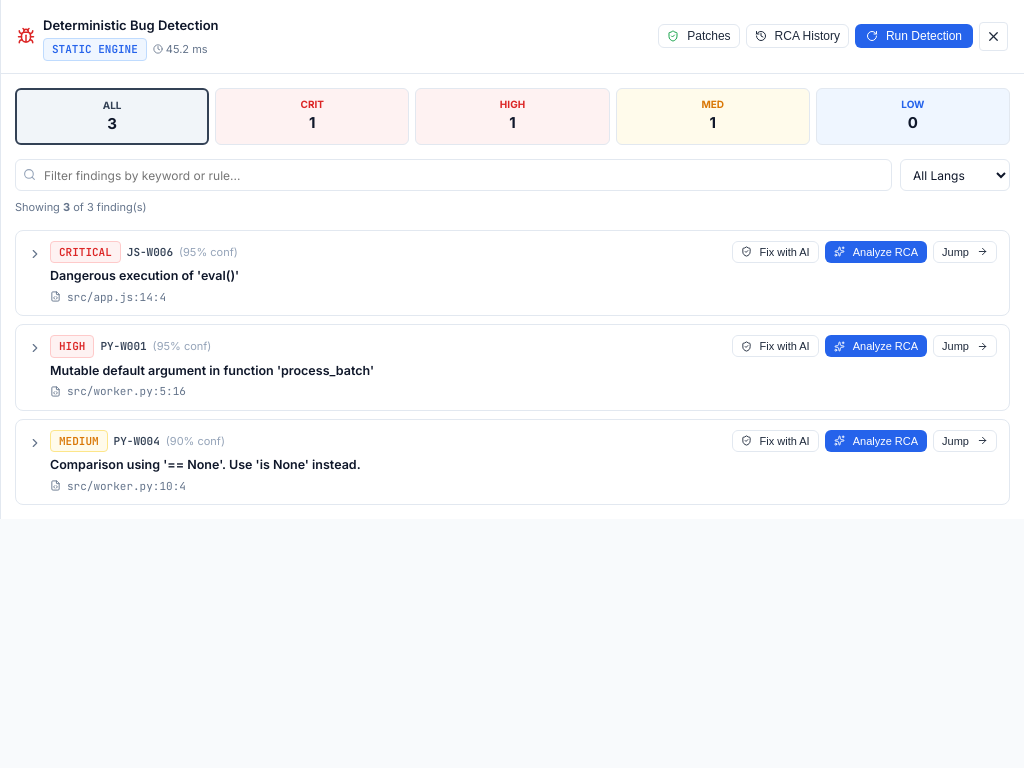
it: DetectionPanel and Deterministic Bug Engine UI › 4. Expands finding to display code evidence, explanation, and remediation
The image size is (1024, 768).
# Click finding row to expand
What coordinates should you click on to do the following:
click the element with test id "finding-row-f-1"
I would click on:
 (85, 252)
Its box is [16,230,1009,315].
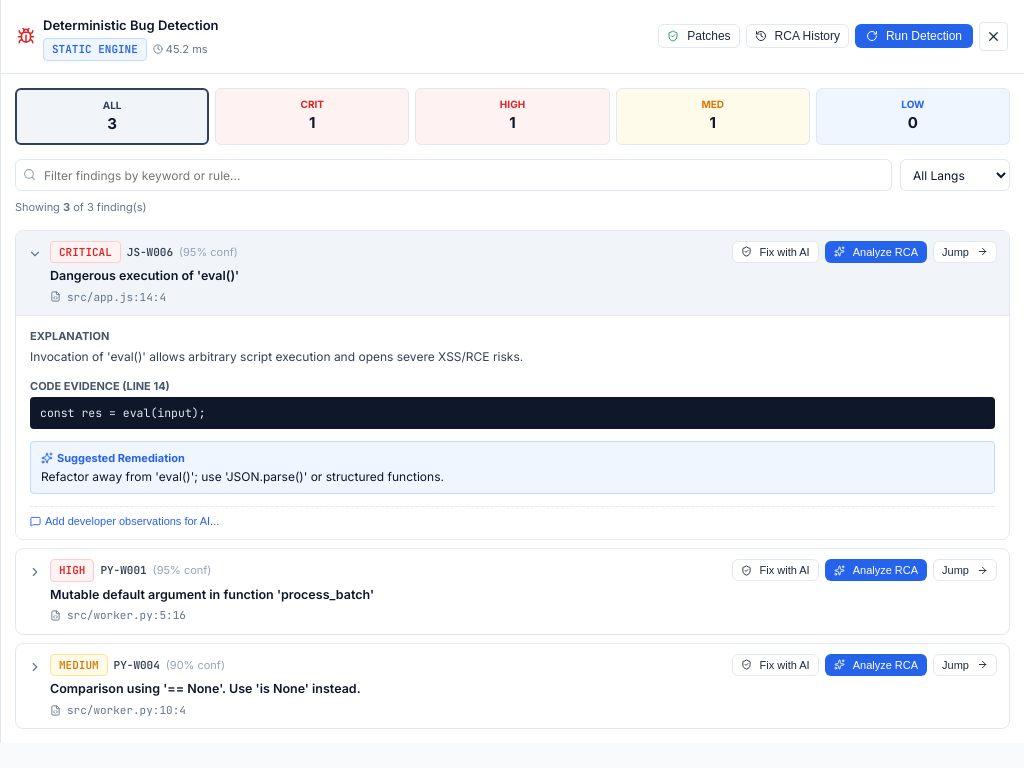
Expected: the text "arbitrary script execution" is shown, [30,348,523,364]
Expected: the text "const res = eval(input);" is shown, [30,397,995,429]
Expected: the text "Suggested Remediation" is shown, [41,451,185,465]
